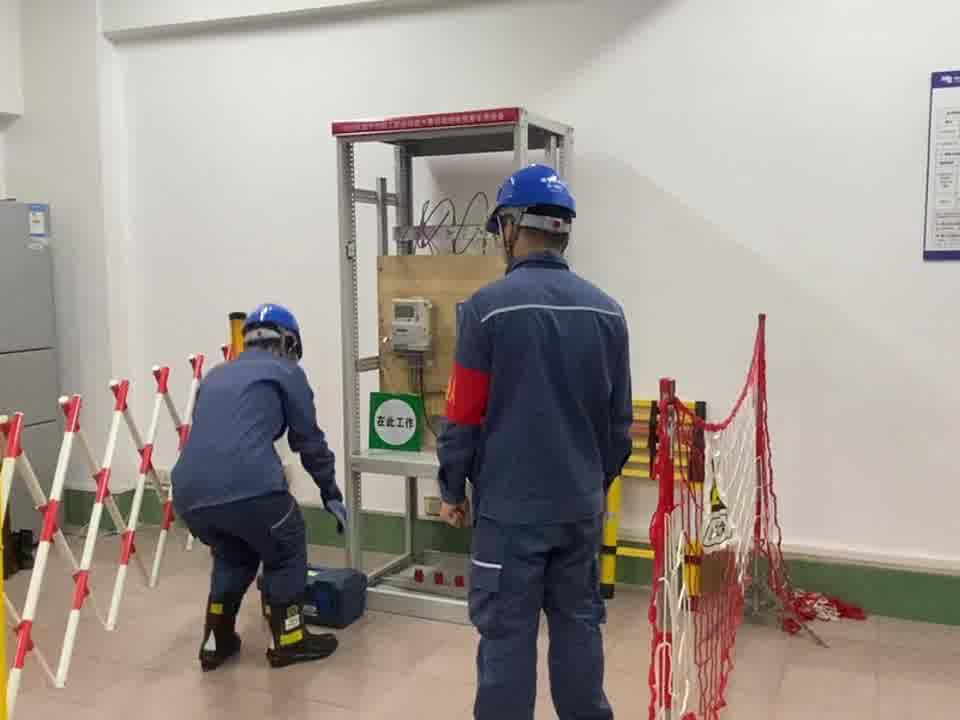badge: (443, 364, 493, 428)
downsuit: (463, 526, 620, 720), (186, 505, 319, 609)
glove: (320, 486, 349, 537)
halt: (490, 163, 580, 257), (242, 304, 306, 357)
hand: (438, 495, 473, 531)
inear: (495, 211, 526, 265)
person: (431, 160, 640, 720), (173, 301, 352, 641)
shoe: (258, 597, 342, 668), (194, 590, 253, 672)
upsuit: (433, 257, 638, 525), (178, 352, 337, 509)
worksign: (359, 382, 429, 453)
